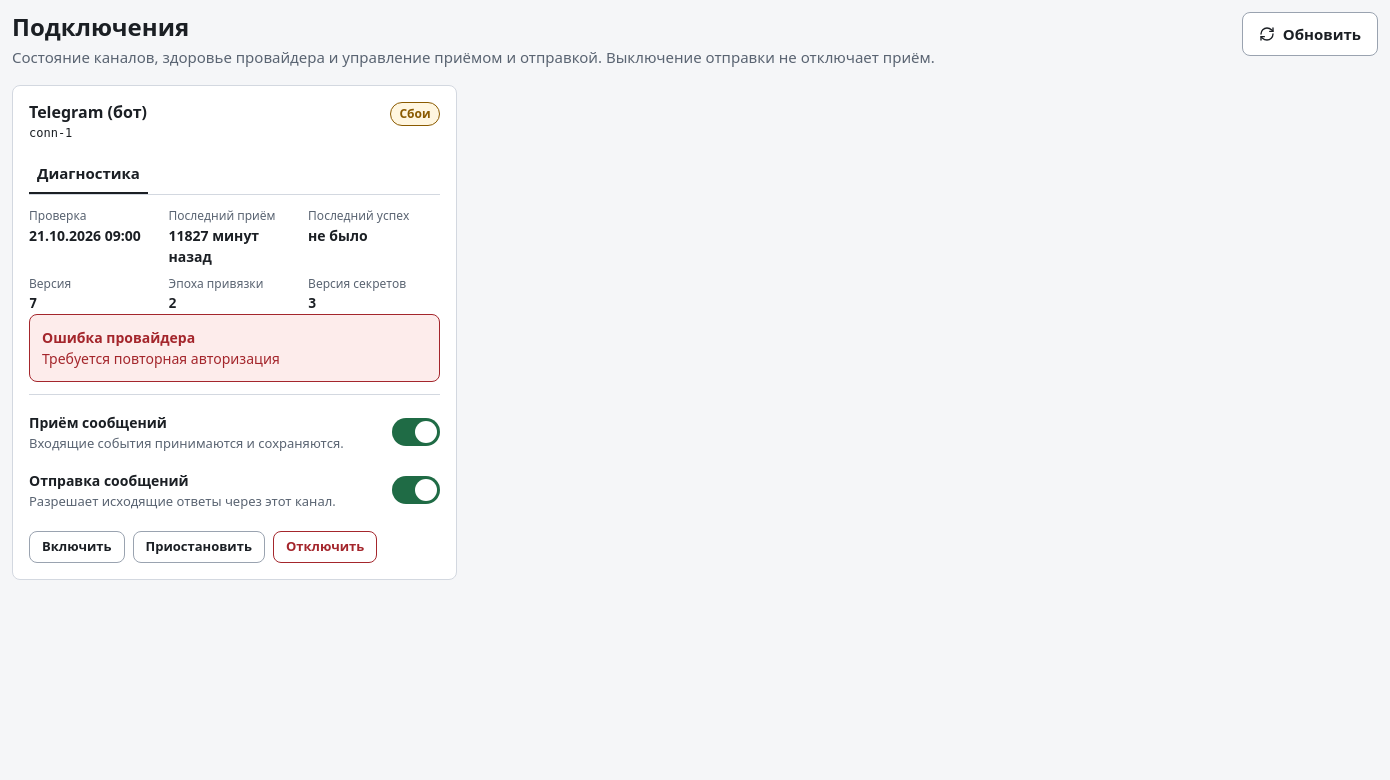
Test: подключения › отправляет lifecycle с ожидаемой версией и не выдаёт конфликт за успех
Expected: the heading "Telegram (бот)" is shown, 29,102 -> 147,122
Click the button "Приостановить". click: click(199, 547)
box: 132,531 -> 265,563
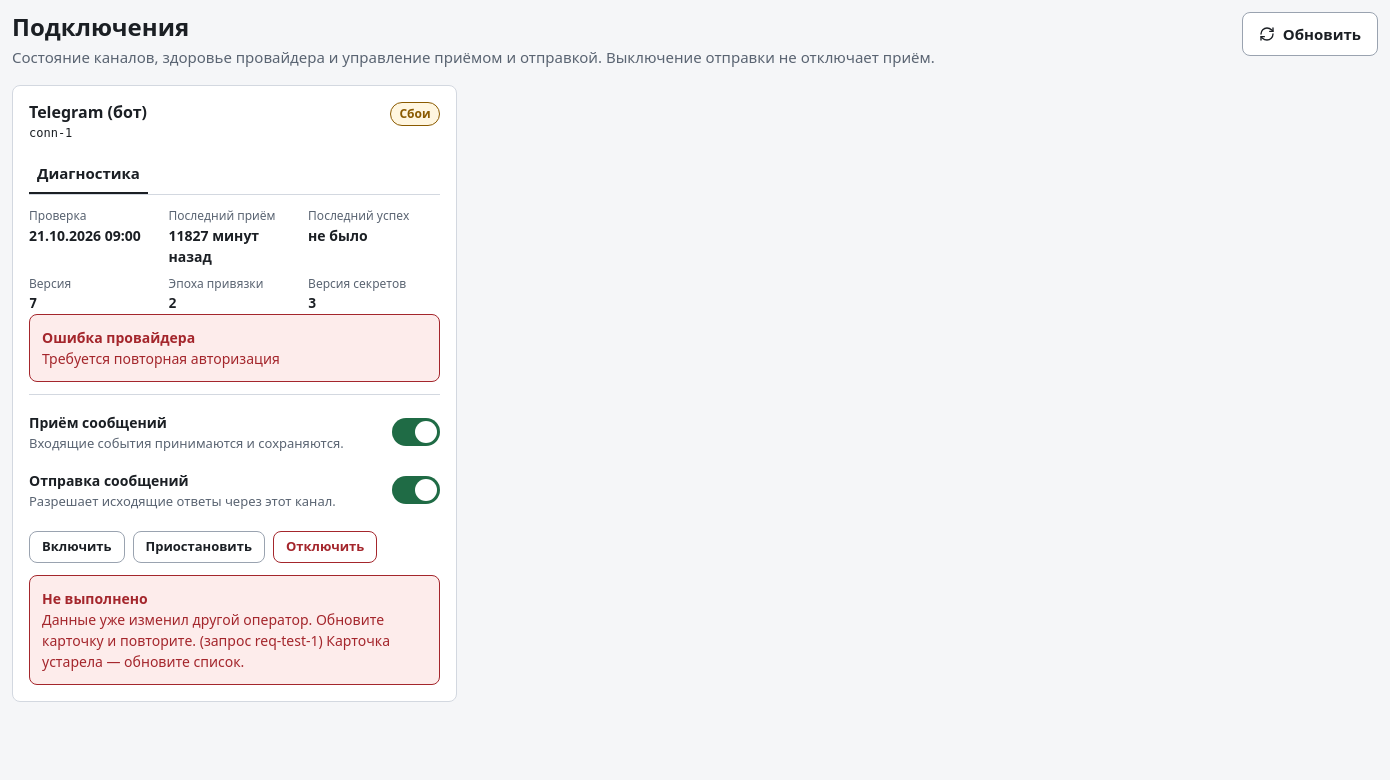
Expected: the text "Не выполнено" is shown, 42,589 -> 148,608
Expected: the text "Карточка устарела" is shown, 42,610 -> 390,671
